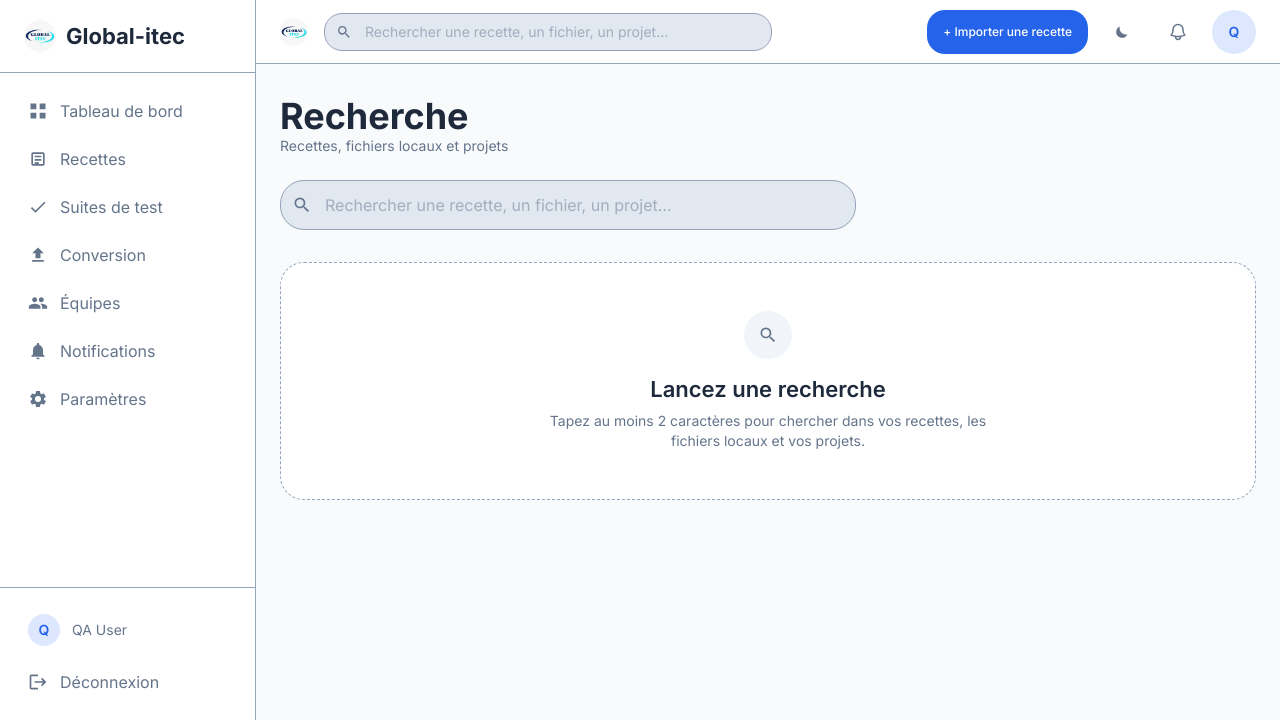
Test case: SearchPage › filters projects for connected users
In the search field named "Recherche globale": (568, 205) 280,180 -> 856,230, type "application"
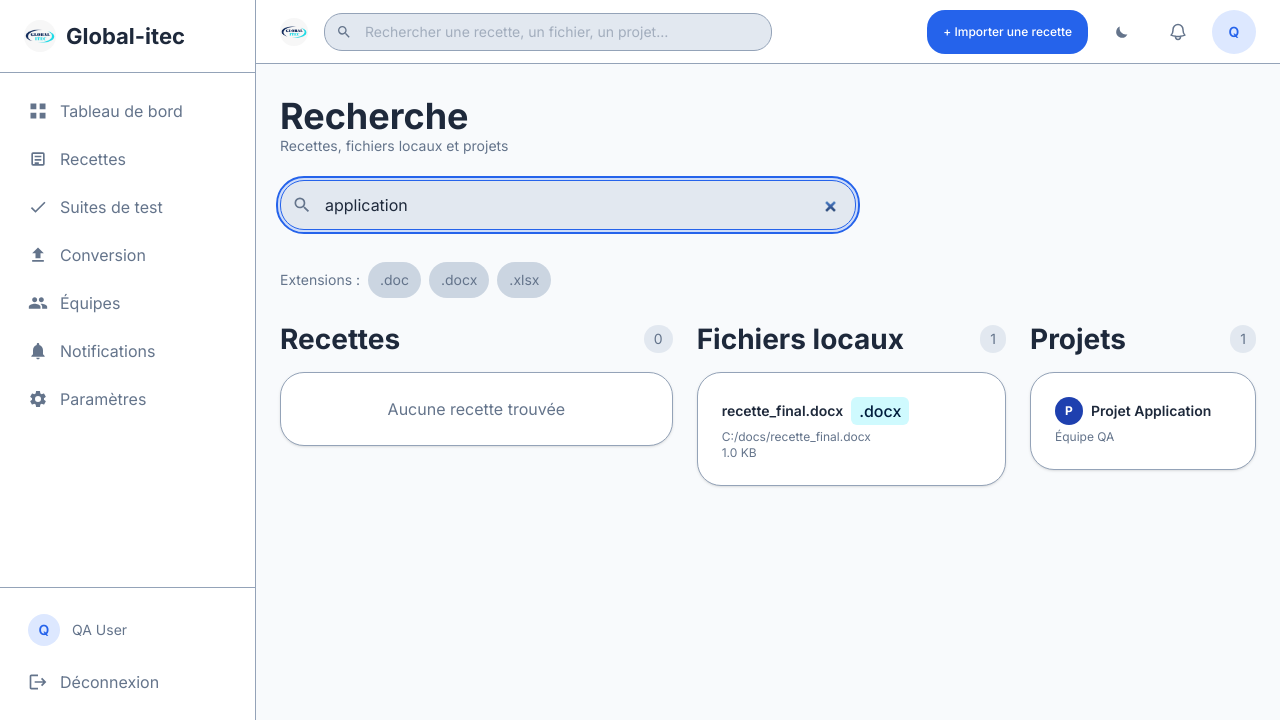
Check: the text "Projet Application" is shown, box 1091,401 -> 1211,421
